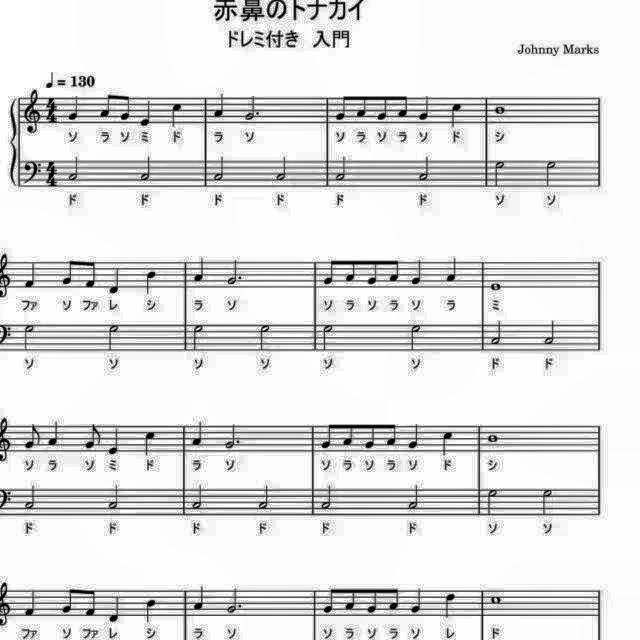Bass-clef: (22, 158, 46, 186)
Eighth-note: (82, 421, 106, 451), (23, 421, 43, 452), (323, 256, 341, 290), (362, 256, 380, 288), (362, 584, 380, 616), (340, 417, 358, 449), (59, 584, 77, 616), (318, 420, 336, 452), (334, 92, 351, 124), (319, 584, 336, 616), (362, 421, 378, 454), (116, 91, 132, 123), (343, 254, 359, 286), (82, 584, 98, 616), (60, 258, 76, 290), (82, 260, 98, 292), (376, 91, 392, 122), (384, 420, 400, 450), (98, 90, 114, 120), (386, 255, 402, 285), (386, 584, 402, 614), (343, 585, 359, 615), (353, 92, 369, 120), (394, 92, 410, 120)
Full-note: (488, 592, 504, 608), (487, 279, 505, 293), (492, 103, 508, 117), (484, 432, 502, 444)
Half-dot: (240, 90, 262, 122), (224, 421, 244, 452), (226, 256, 246, 286), (226, 586, 246, 616)
Half-note: (542, 157, 562, 190), (406, 322, 426, 354), (106, 482, 126, 514), (106, 324, 125, 356), (542, 319, 562, 349), (484, 486, 502, 518), (21, 322, 39, 354), (189, 322, 207, 354), (539, 486, 557, 518), (319, 322, 337, 354), (257, 322, 275, 354), (491, 156, 509, 188), (417, 153, 435, 184), (137, 153, 155, 184), (407, 482, 425, 512), (333, 154, 351, 184), (188, 481, 206, 511), (255, 481, 273, 511), (318, 482, 336, 511), (66, 152, 82, 184), (489, 320, 507, 348), (274, 153, 290, 183), (24, 481, 40, 511), (212, 154, 228, 183)
Quarter-note: (22, 260, 42, 292), (22, 586, 42, 618), (105, 592, 123, 624), (105, 264, 123, 296), (105, 426, 123, 458), (406, 421, 424, 452), (44, 418, 62, 448), (141, 428, 159, 458), (408, 586, 426, 616), (439, 429, 457, 458), (442, 588, 458, 620), (410, 256, 426, 288), (444, 255, 461, 285), (188, 418, 205, 448), (142, 268, 160, 296), (168, 100, 186, 128), (141, 598, 159, 626), (66, 93, 82, 123), (192, 255, 208, 285), (212, 91, 228, 121), (192, 583, 208, 613), (416, 94, 432, 124), (138, 98, 154, 128), (448, 100, 464, 128)
Treble-clef: (23, 87, 45, 137)
